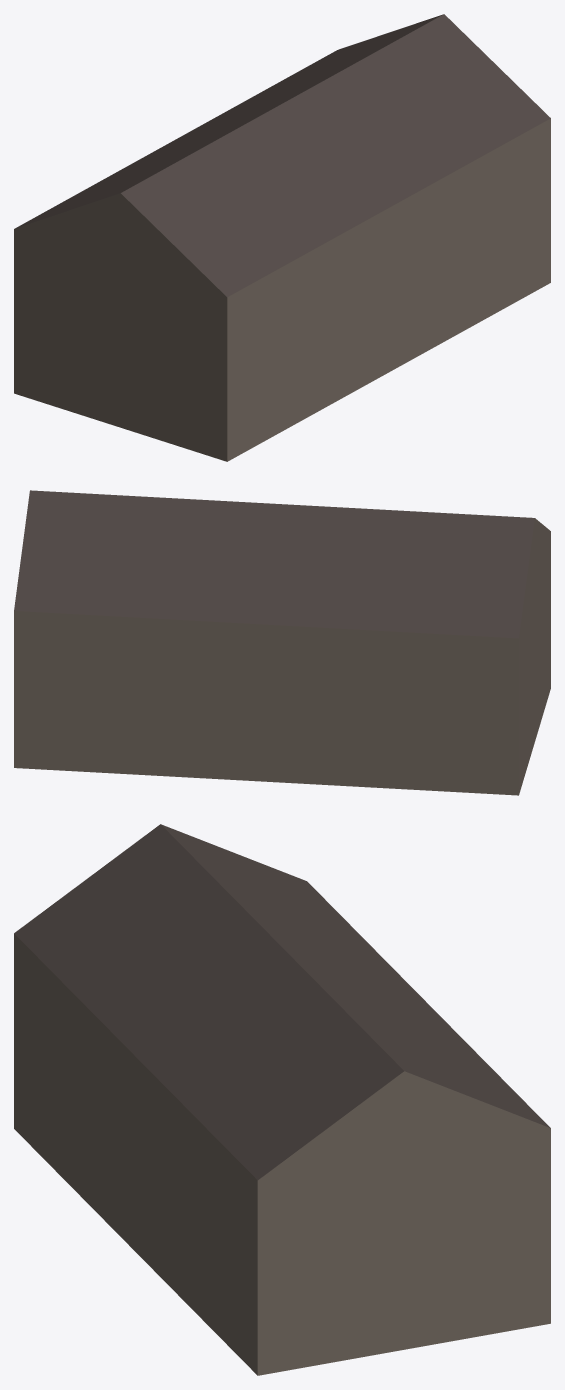
The picture shows the model from 3 angles, top to bottom: view 1: azimuth 30°, elevation 25°; view 2: azimuth 150°, elevation 25°; view 3: azimuth 270°, elevation 25°; orthographic projection. The views are drawn at different scales.
Parts seen in each view (by area): view 1: HP-w792395356; view 2: HP-w792395356; view 3: HP-w792395356.
Part boxes in pixels (x1,y1,x2,y2): HP-w792395356: (14,14,550,461); HP-w792395356: (14,490,550,795); HP-w792395356: (14,824,550,1375).
Size of the model in its own units: 29.56 by 12.83 by 22.42.
